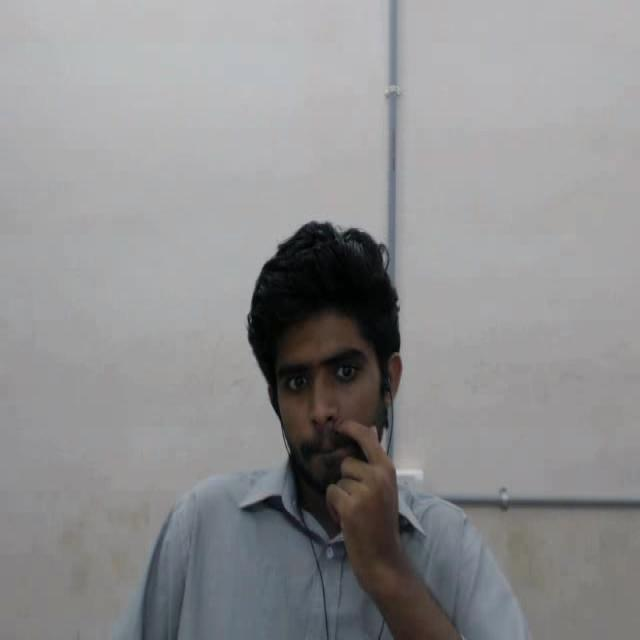Bored: (227, 196, 450, 544)
